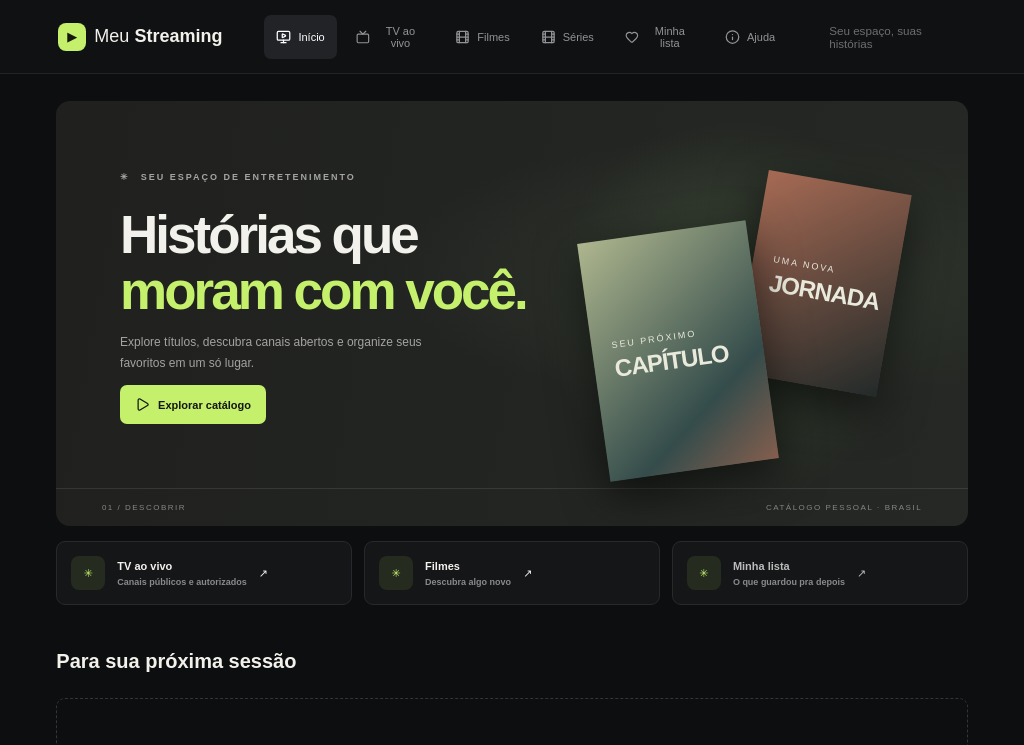
Scenario: interface › diferencia links oficiais de canais pendentes e exclui pendências da M3U
The image size is (1024, 745).
Click the button "TV ao vivo".
click(390, 36)  # box [344,14,436,58]
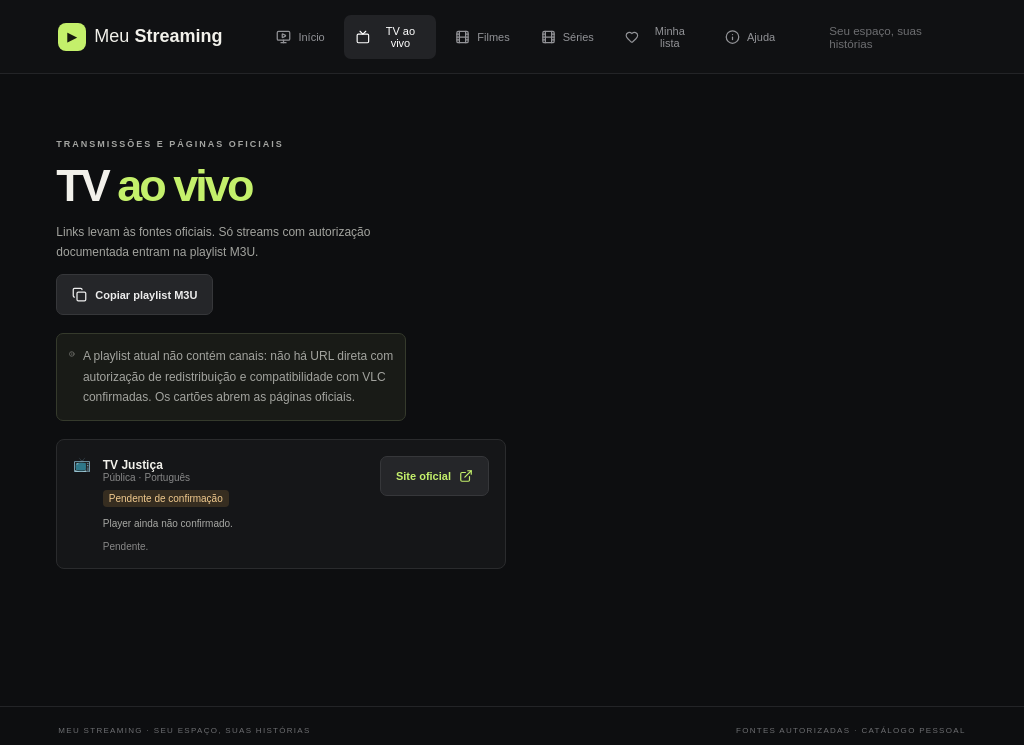
expect the text "Pendente de confirmação" is shown: met, box [103,490,229,507]
expect the text "A playlist atual não contém canais" is shown: met, box [83,350,393,404]
